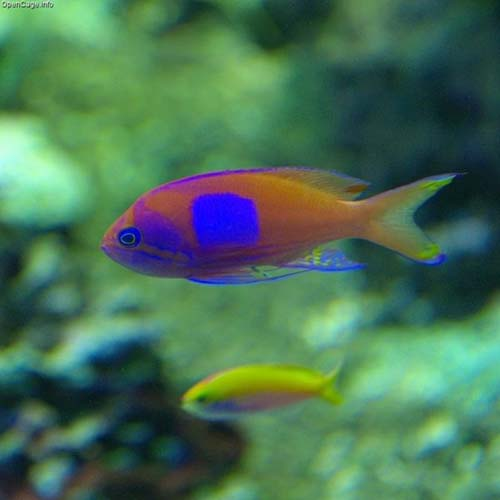fish: (100, 165, 470, 286)
